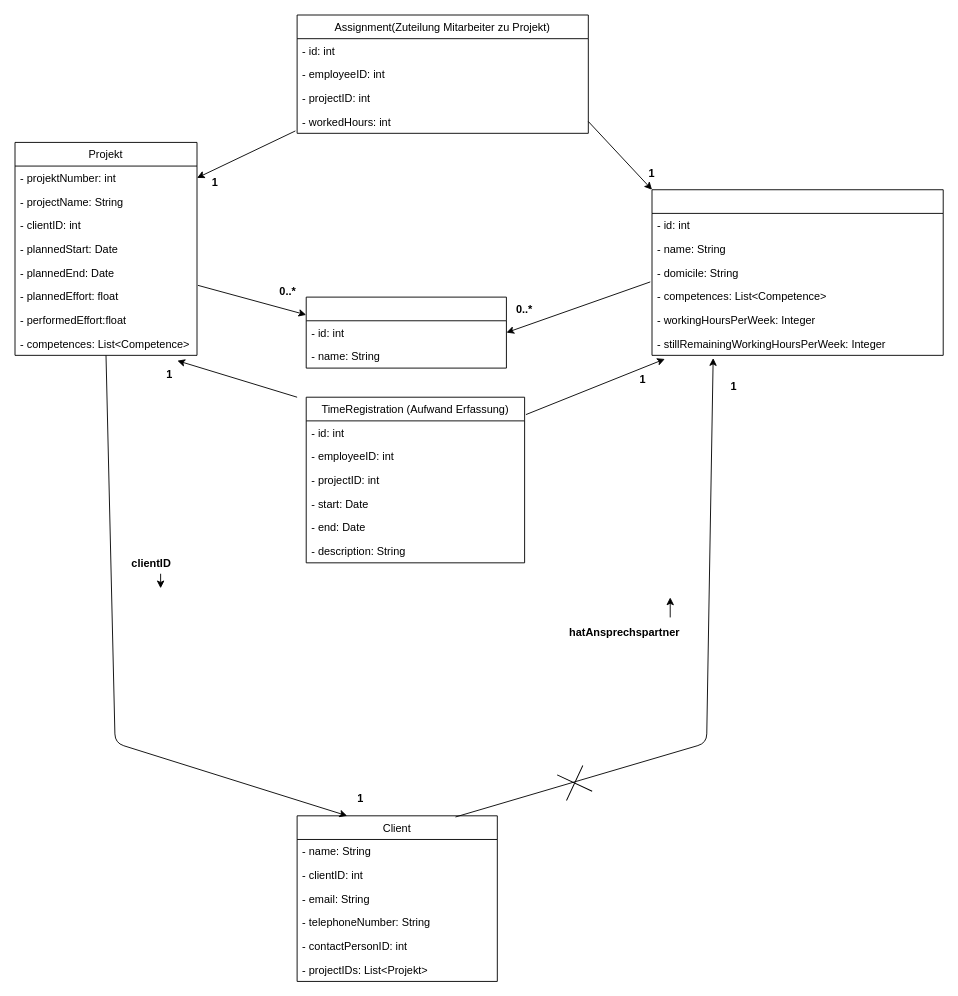
The diagram is 958 pixels wide and 996 high, and some of its shapes have lost their labels. Each missing label, with the box of its shape:
Competence: (305, 296, 506, 368)
Employee: (651, 189, 943, 355)
